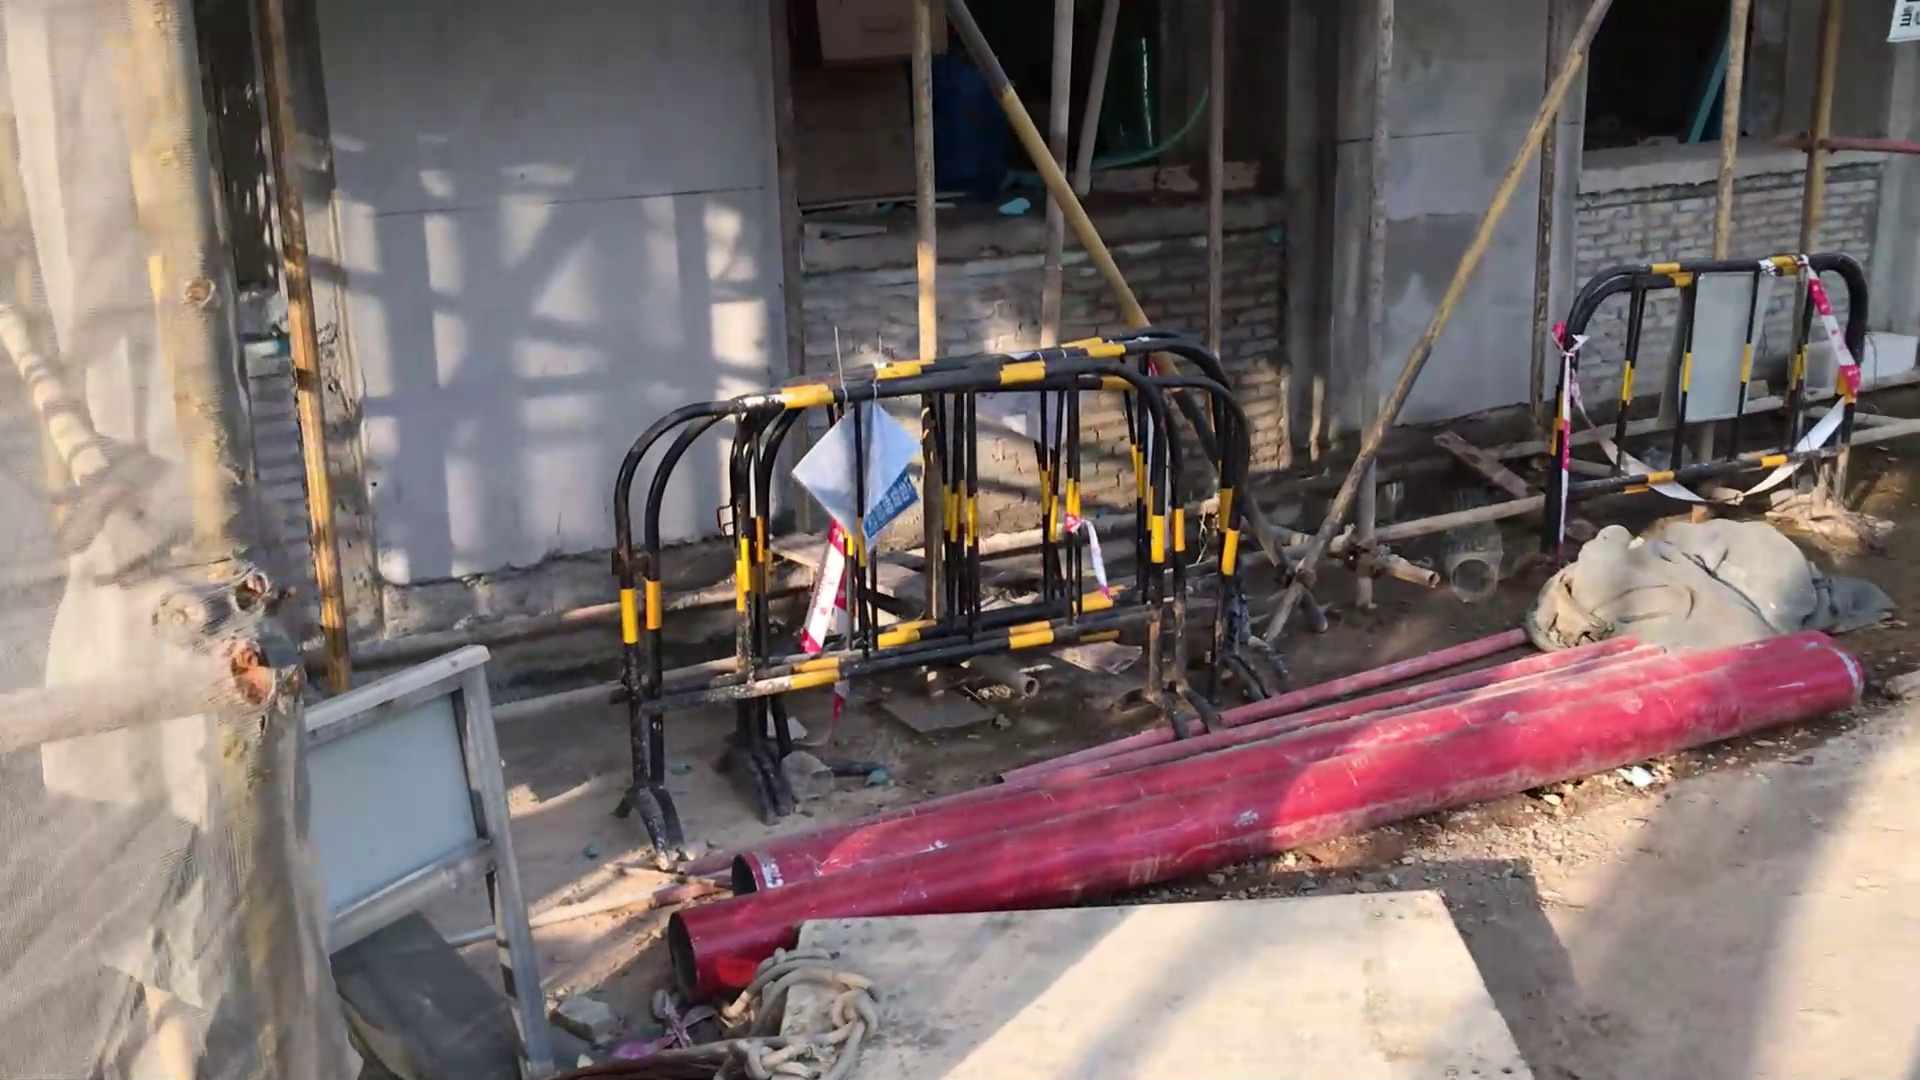fence: (611, 323, 1275, 845), (1544, 245, 1873, 568)
slogan: (1883, 1, 1920, 49)
